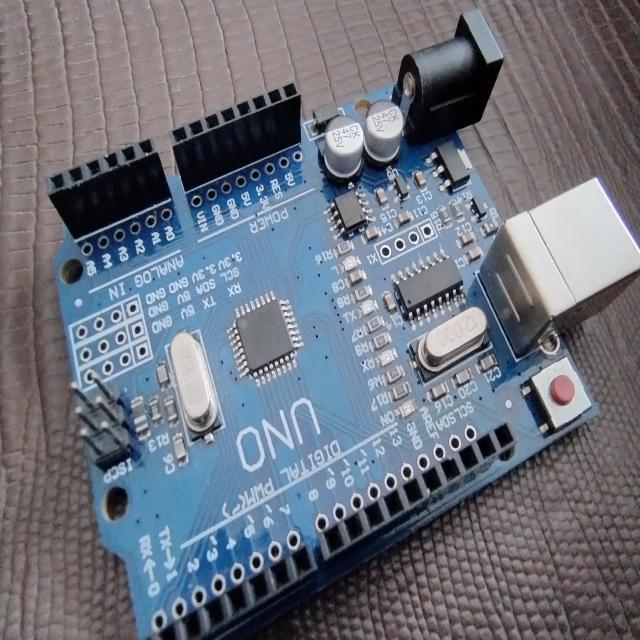arduino: (21, 4, 640, 640)
